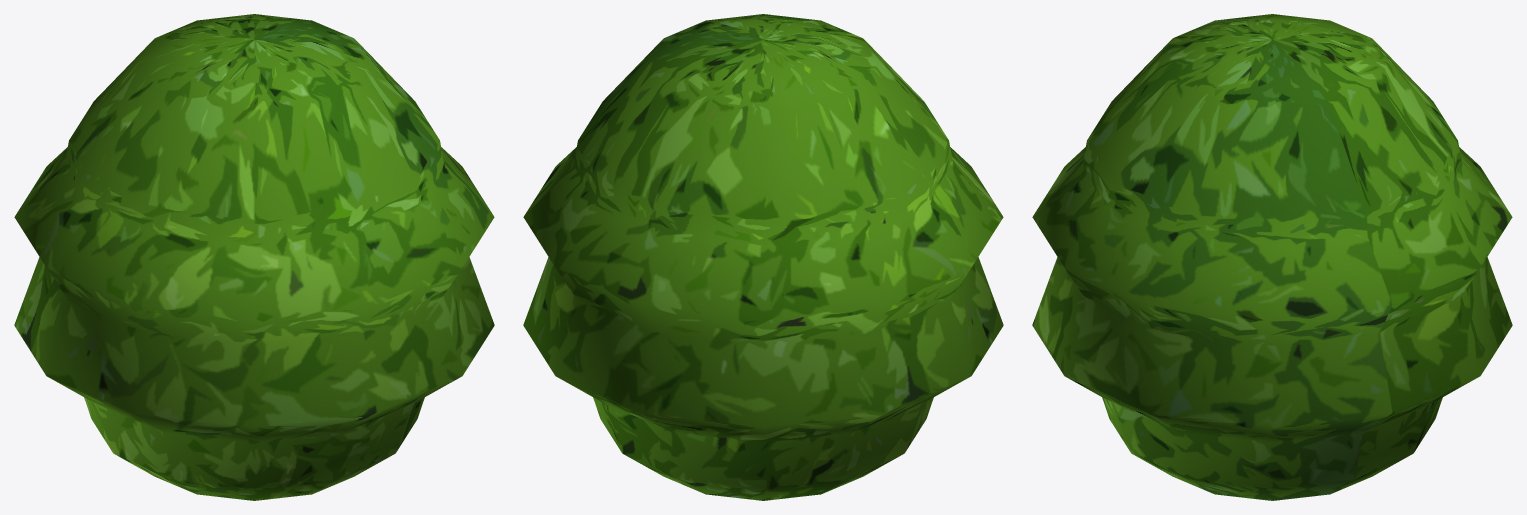
File: bush_model.fbx
3 views of the same model, side by side, from view 1: azimuth 30°, elevation 25°; view 2: azimuth 150°, elevation 25°; view 3: azimuth 270°, elevation 25° (orthographic).
Visible parts, largest first — view 1: pSphere1; view 2: pSphere1; view 3: pSphere1.
Part boxes in pixels (box(x1,y1,x2,y2)): pSphere1: box(14, 14, 494, 500); pSphere1: box(523, 14, 1003, 500); pSphere1: box(1032, 14, 1512, 500).
Size of the model in its own units: 41.68 by 39.48 by 41.68.
